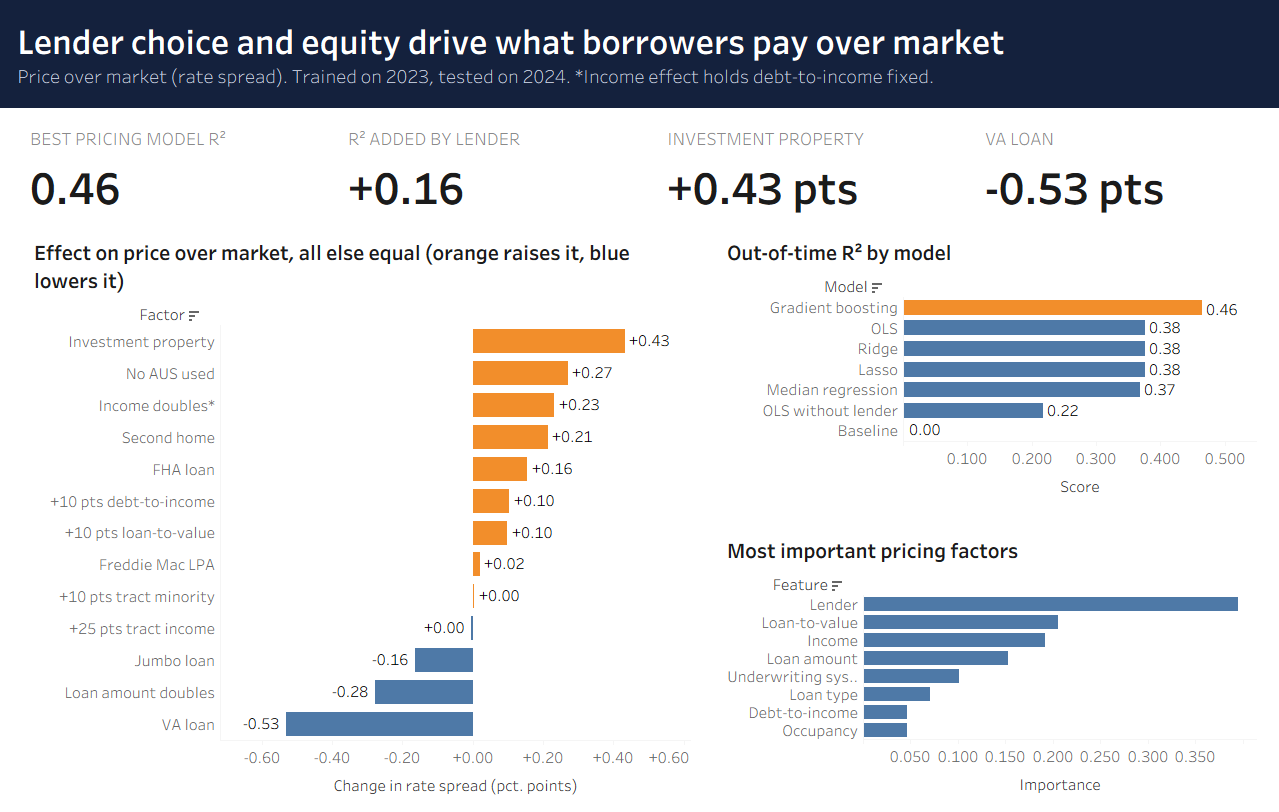

The dashboard page shown, as its layout file describes it:
{"tool":"tableau","page":{"name":"3. Pricing","canvas":[1300,860],"ordinal":2},"visuals":[{"type":"text","box":[0,0,1300,107.5]},{"type":"worksheet","title":"KPI r2","mark":"Text","box":[19.5,116.1,305.5,103.2]},{"type":"worksheet","title":"KPI lender","mark":"Text","box":[338,116.1,305.5,103.2]},{"type":"worksheet","title":"KPI investor","mark":"Text","box":[656.5,116.1,305.5,103.2]},{"type":"worksheet","title":"KPI va","mark":"Text","box":[975,116.1,305.5,103.2]},{"type":"worksheet","title":"Pricing effects","mark":"Bar","rows":["factor"],"cols":["effect"],"box":[19.5,223.6,680.5,589.1]},{"type":"worksheet","title":"Pricing models","mark":"Bar","rows":["model"],"cols":["score"],"box":[713,223.6,554.4,290.2]},{"type":"worksheet","title":"Pricing drivers","mark":"Bar","rows":["feature"],"cols":["importance"],"box":[713,522.5,554.4,290.2]},{"type":"text","box":[19.5,825.6,1261,34.4]}]}

Visuals, with their boxes on the page's 1300x860 design canvas (x1, y1, x2, y2). These are canvas units, not pixel positions in the 1279x812 screenshot, which may show the page scaled, cropped or inside an application window:
text: <box>0,0,1300,108</box>
"KPI r2" worksheet (Text marks): <box>20,116,325,219</box>
"KPI lender" worksheet (Text marks): <box>338,116,644,219</box>
"KPI investor" worksheet (Text marks): <box>656,116,962,219</box>
"KPI va" worksheet (Text marks): <box>975,116,1280,219</box>
"Pricing effects" worksheet (Bar marks): <box>20,224,700,813</box>
"Pricing models" worksheet (Bar marks): <box>713,224,1267,514</box>
"Pricing drivers" worksheet (Bar marks): <box>713,522,1267,813</box>
text: <box>20,826,1280,860</box>
